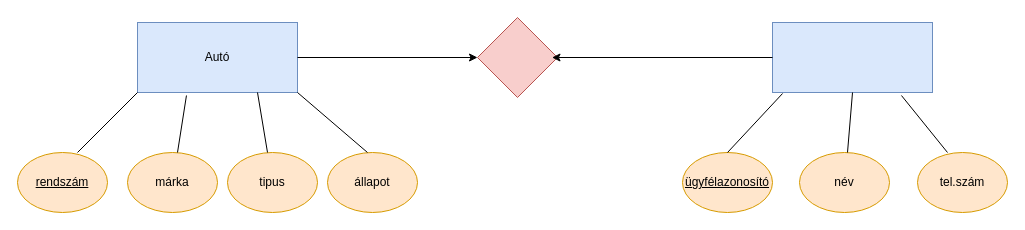
Image size: 1025x230. Some labels were removed from this diagram. The centre of each missing label's shape, as x and y in pixels:
Bérlés: point (517, 57)
Ügyfél: point (852, 57)
